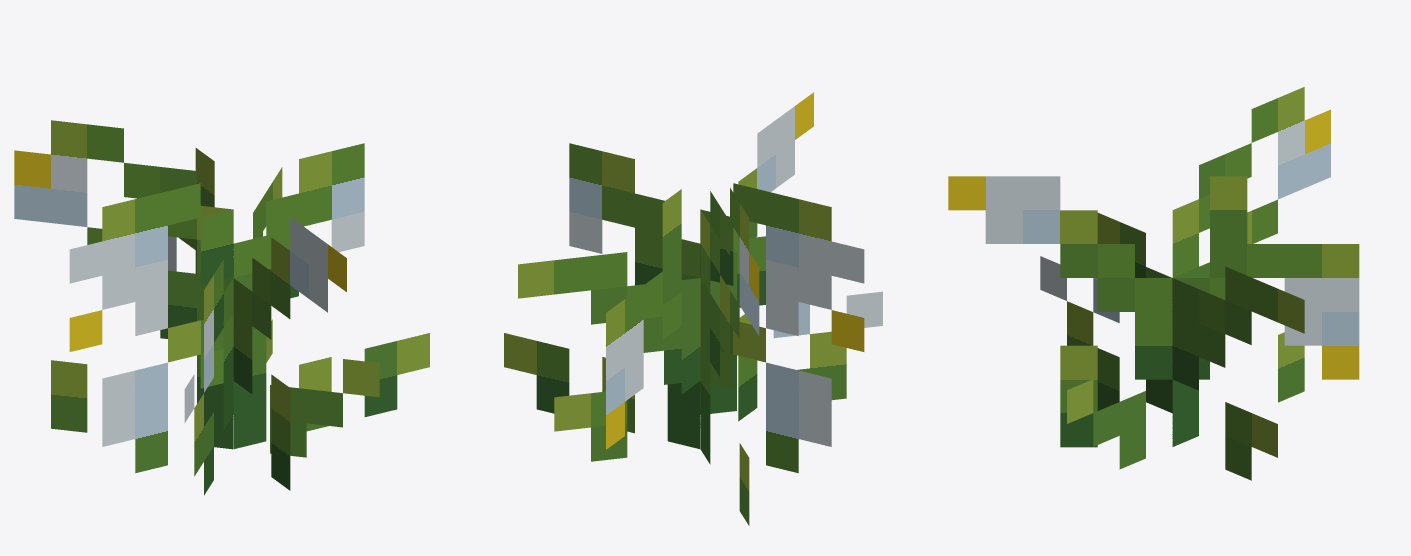
The model's file is LilySeedling.fbx.
The picture shows the model from 3 angles, left to right: view 1: azimuth 30°, elevation 25°; view 2: azimuth 150°, elevation 25°; view 3: azimuth 270°, elevation 25°; orthographic projection.
Parts seen in each view (by area): view 1: plane; view 2: plane; view 3: plane.
Boxes of the visible parts, x1=… form: plane: x1=14, y1=120, x2=429, y2=495; plane: x1=504, y1=92, x2=882, y2=525; plane: x1=948, y1=87, x2=1359, y2=480.
Bounding box in the file's own units: 75 × 62.5 × 75.
Materials: 1 (1 with a texture image).
